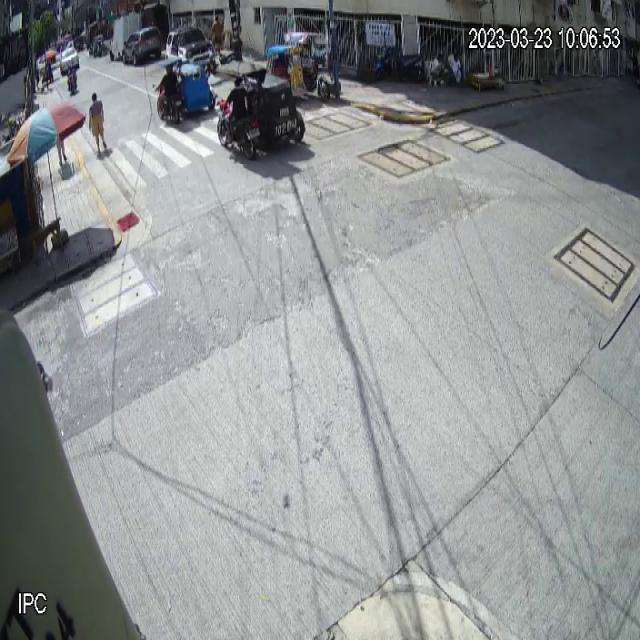Tricycle: (216, 61, 306, 159), (154, 57, 217, 123)
